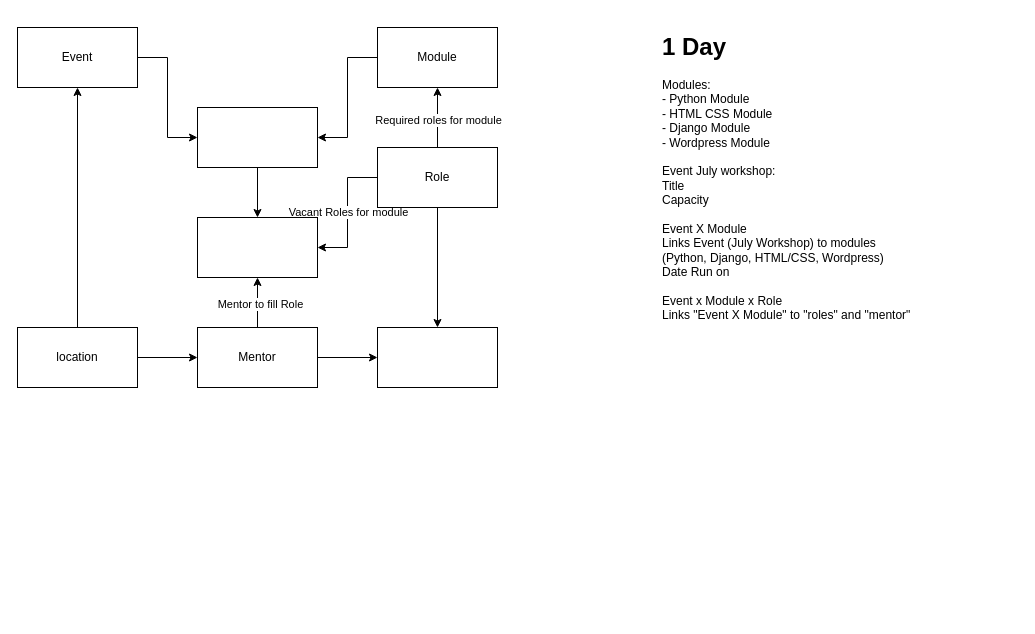
Some shapes in this 1035 by 634 pixel diagram are drawn without their labels. Each missing label, with the centre of its shape:
Event X Module: the point at 257,137
Event X Module X Role: the point at 257,247
Mentor x Role (what role can the mentor do): the point at 437,357
